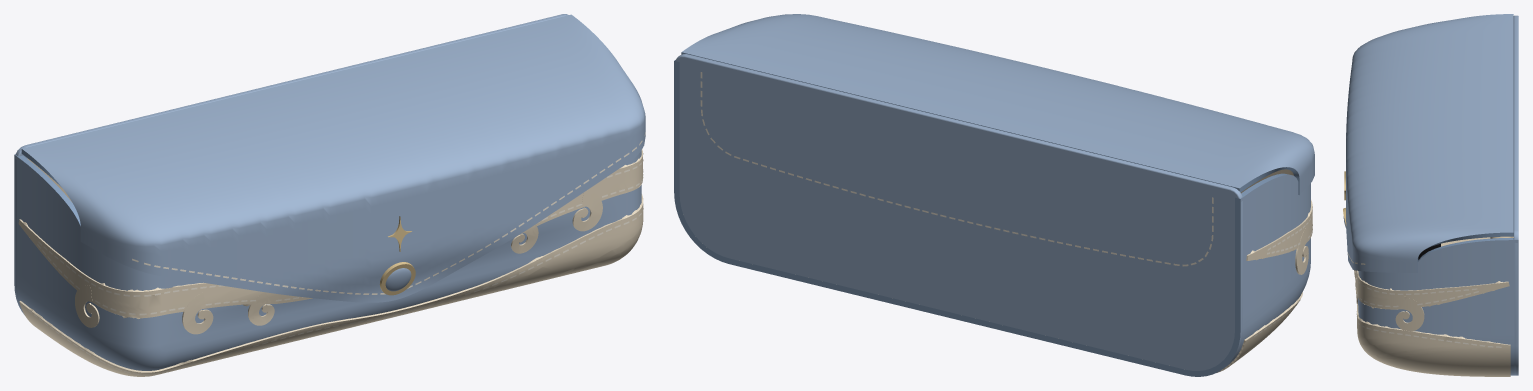
The model's file is case_light.glb.
3 renders of one model, left to right at view 1: azimuth 30°, elevation 25°; view 2: azimuth 150°, elevation 25°; view 3: azimuth 270°, elevation 25°, orthographic. The views are drawn at different scales.
Parts seen in each view (by area): view 1: Case_Flap, Case_Body, Case_Snap; view 2: Case_Body, Case_Flap; view 3: Case_Flap, Case_Body.
Boxes of the visible parts, <box> form: Case_Flap: <box>21,14,645,302</box>; Case_Body: <box>14,14,643,376</box>; Case_Snap: <box>379,262,415,295</box>; Case_Body: <box>674,54,1312,376</box>; Case_Flap: <box>681,14,1314,194</box>; Case_Flap: <box>1344,14,1513,272</box>; Case_Body: <box>1354,15,1518,376</box>.
Size of the model in its own units: 0.165 by 0.055 by 0.055.
